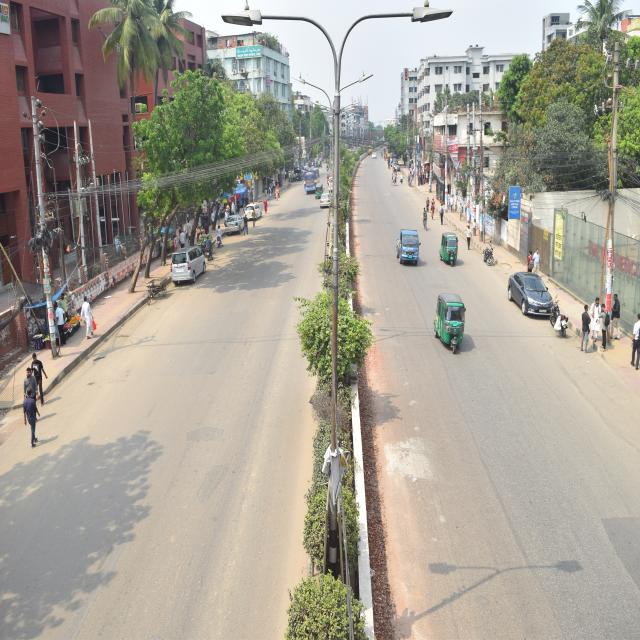bus: (299, 158, 323, 200)
car: (508, 264, 558, 323), (244, 200, 266, 226), (224, 214, 247, 237)
microbus: (171, 242, 210, 293)
motorbike: (550, 295, 571, 341), (480, 237, 502, 268), (203, 235, 215, 263), (212, 227, 224, 248)
pickup-van: (397, 218, 421, 267)
